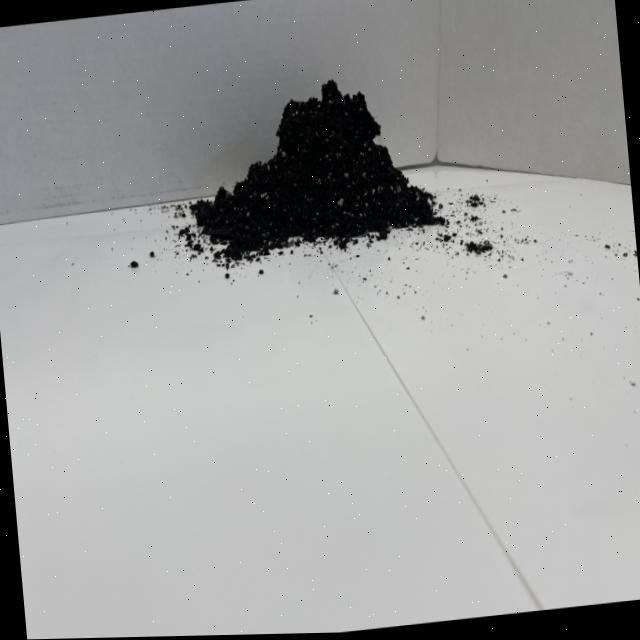soil: (178, 64, 447, 264)
